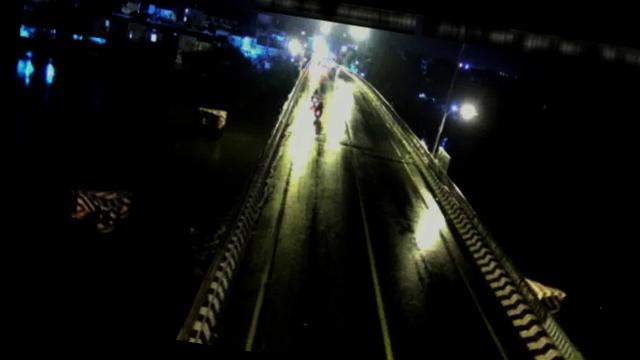Bike: (314, 100, 324, 121)
